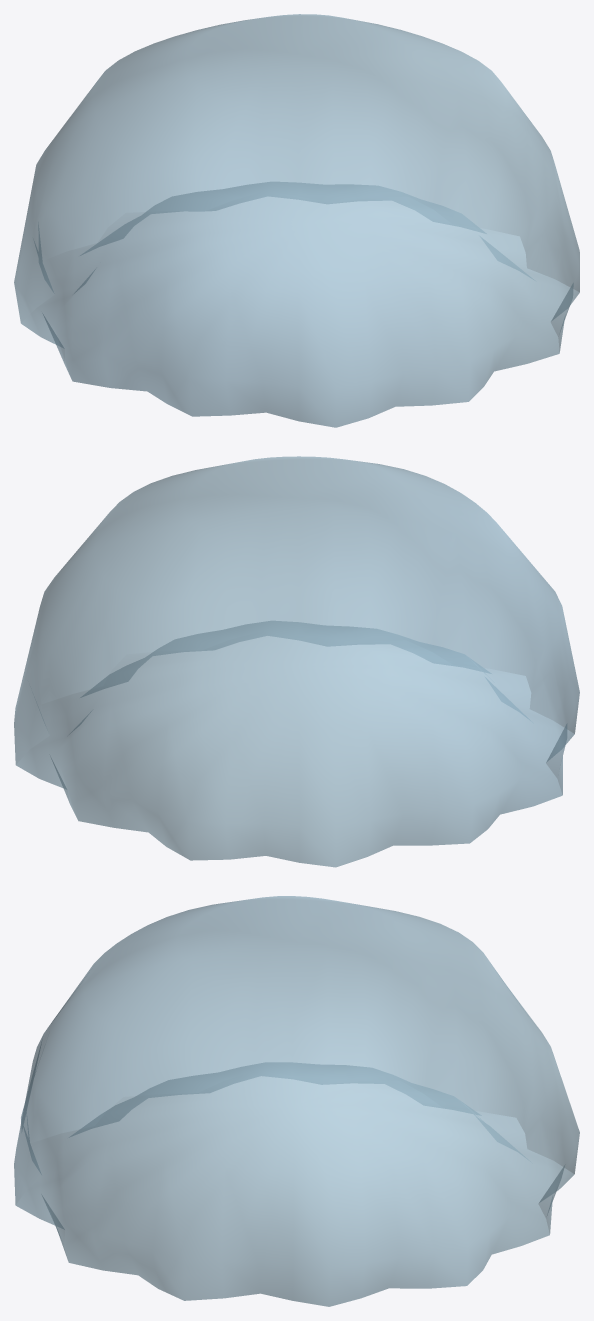
The model's file is shore_jelly_bell.glb.
3 renders of one model, top to bottom at view 1: azimuth 30°, elevation 25°; view 2: azimuth 150°, elevation 25°; view 3: azimuth 270°, elevation 25°, orthographic.
Visible parts, largest first — view 1: shore_jelly_bell; view 2: shore_jelly_bell; view 3: shore_jelly_bell.
Part boxes in pixels (box(x1,y1,x2,y2)): shore_jelly_bell: box(14, 14, 579, 427); shore_jelly_bell: box(14, 456, 579, 867); shore_jelly_bell: box(14, 896, 579, 1306).
Size of the model in its own units: 1.23 by 0.61 by 1.23.
